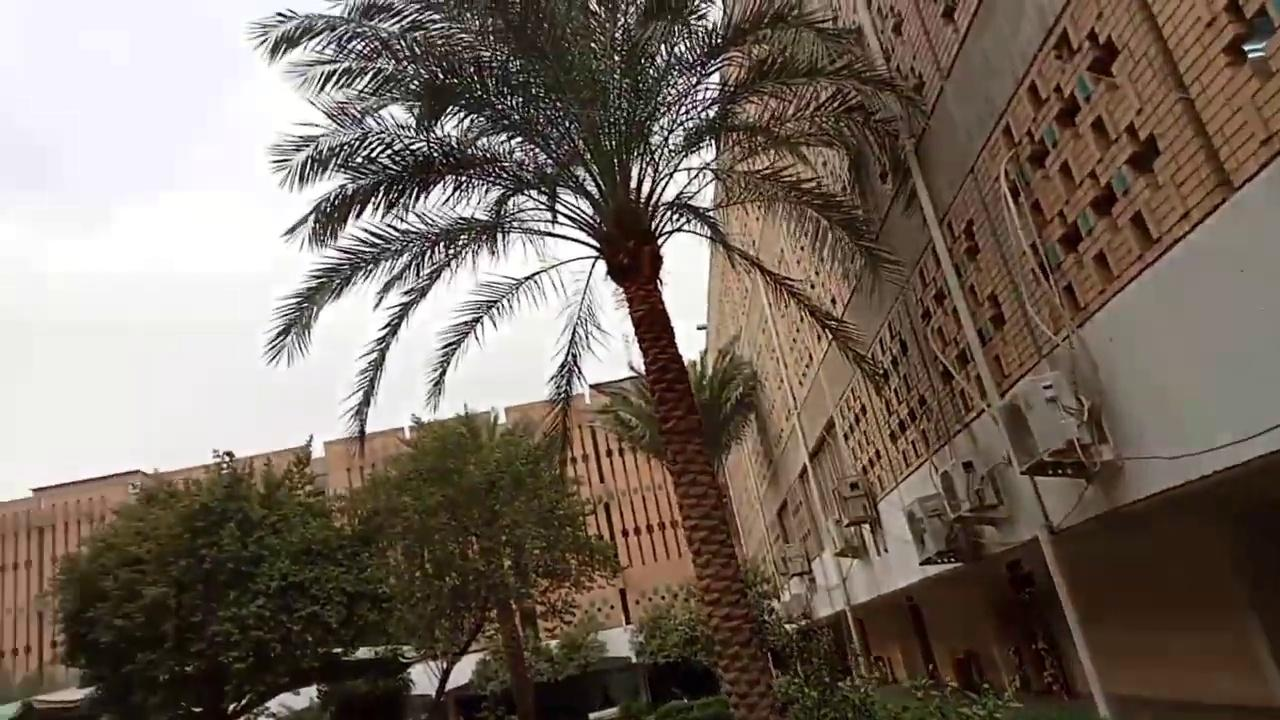tree: (244, 0, 928, 717), (34, 436, 364, 718), (336, 405, 625, 717), (740, 561, 1024, 718)
